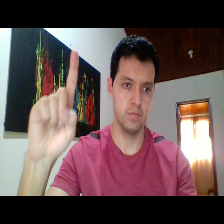2T: (22, 47, 82, 160)
